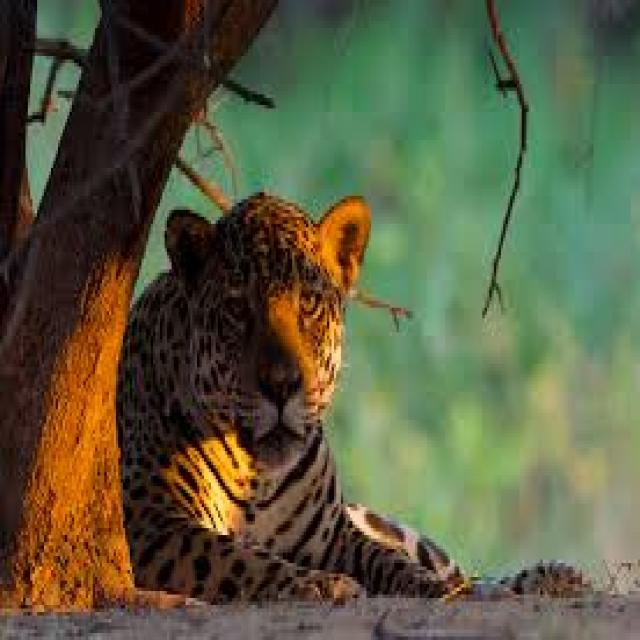Jaguar: (104, 189, 415, 612)
